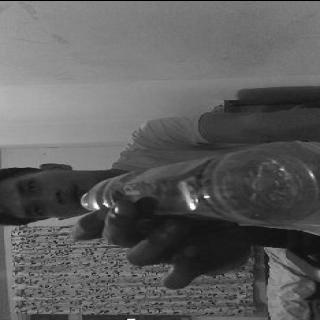plastic_bottles: (80, 148, 319, 222)
